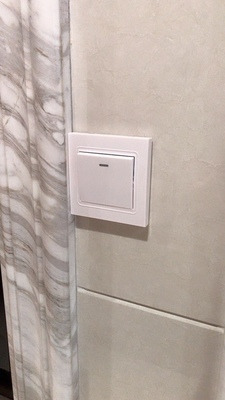switch: (71, 147, 140, 212)
